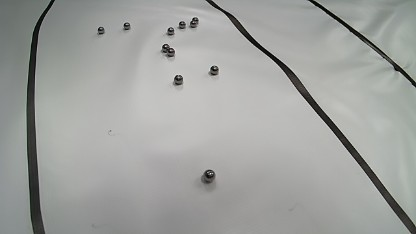ironball: (203, 169, 215, 183), (174, 74, 183, 85), (209, 65, 218, 75), (167, 47, 175, 57), (161, 43, 169, 52), (167, 27, 175, 35), (123, 22, 130, 30), (97, 26, 104, 34), (178, 21, 186, 28), (189, 20, 197, 27), (192, 16, 199, 23)
